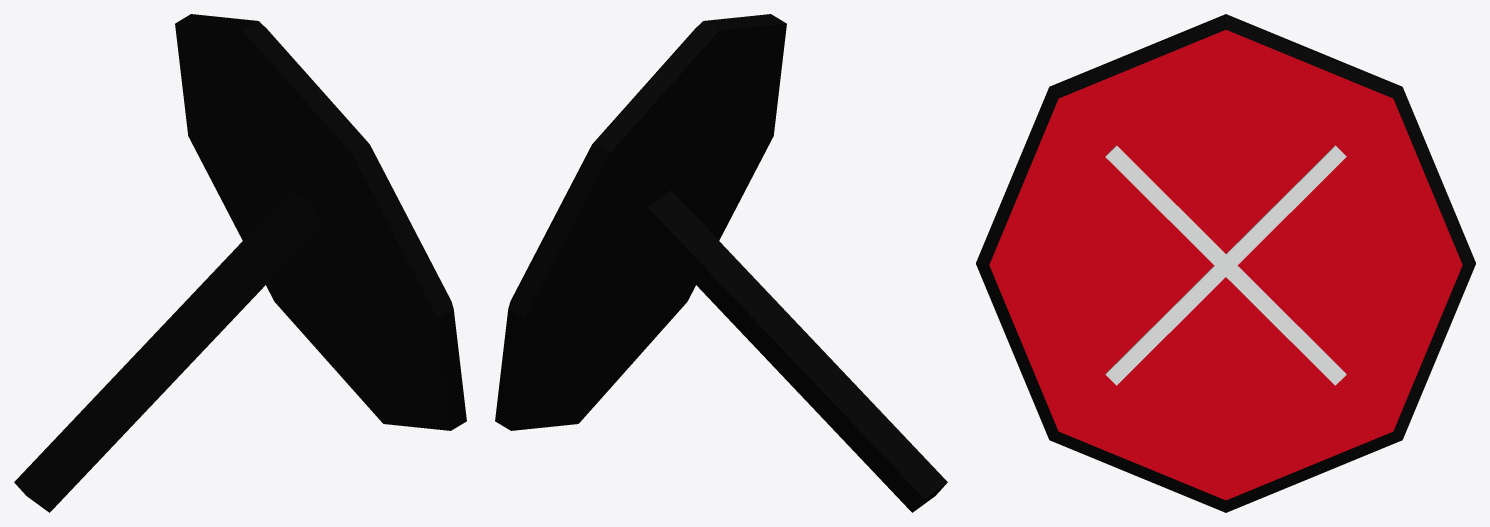
Rendered from mystop.fbx.
3 views of the same model, side by side, from view 1: azimuth 30°, elevation 25°; view 2: azimuth 150°, elevation 25°; view 3: azimuth 270°, elevation 25° (orthographic).
Parts seen in each view (by area): view 1: Cylinder, Cube.001; view 2: Cylinder, Cube.001; view 3: Cylinder.
Boxes of the visible parts, x1,y1,x2,y2 form: Cylinder: (175, 14, 466, 430); Cube.001: (14, 190, 320, 512); Cylinder: (495, 14, 786, 430); Cube.001: (641, 190, 947, 512); Cylinder: (976, 14, 1475, 512).
Bounding box in the file's own units: 221 × 244 × 255.
